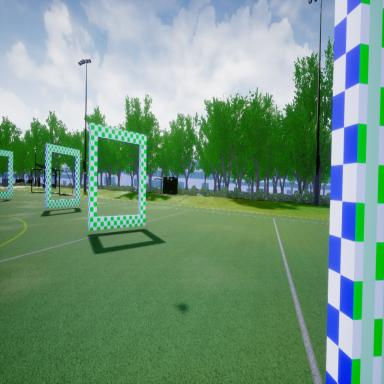gate: (87, 122, 148, 236), (43, 139, 81, 213)
